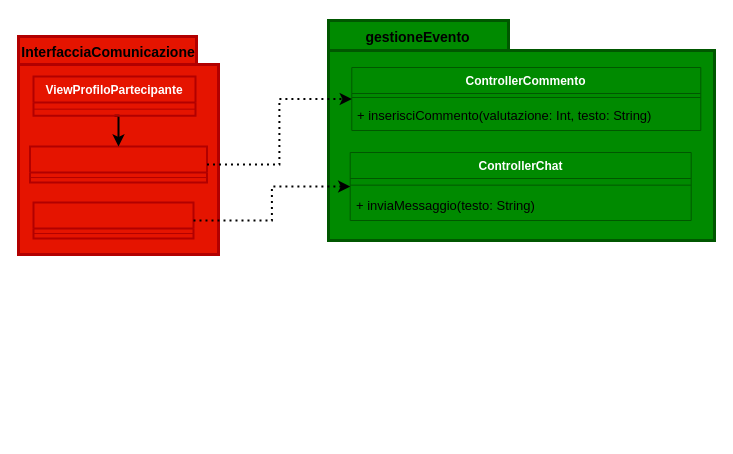
Some shapes in this 733 by 454 pixel diagram are drawn without their labels. The centre of each missing label's shape, as x and y in pixels:
ViewChatEvento: [113,220]
ViewInserimentoCommmento: [118,164]
